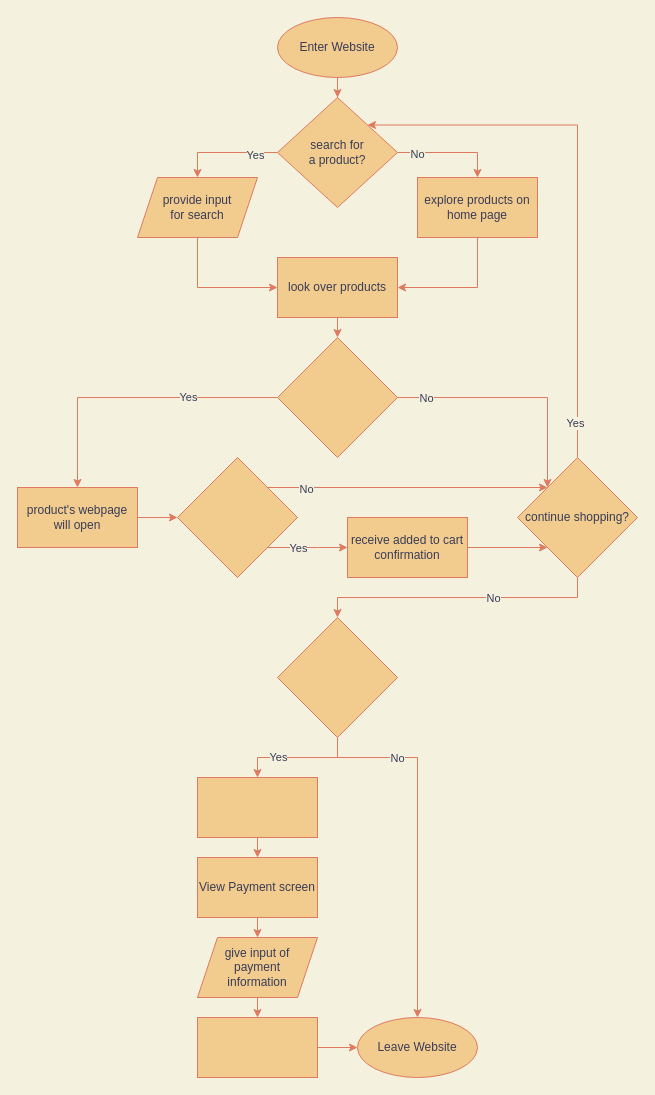
The diagram is 655 pixels wide and 1095 high, and some of its shapes have lost their labels. The box of each missing label's shape, as (x1, y1, x2, y2) in pixels:
add item to cart?: (176, 456, 298, 578)
checkout?: (276, 616, 398, 738)
view a specific product?: (276, 336, 398, 458)
View Cart screen: (196, 776, 318, 838)
View Order Confirmation Screen and receive email: (196, 1016, 318, 1078)
